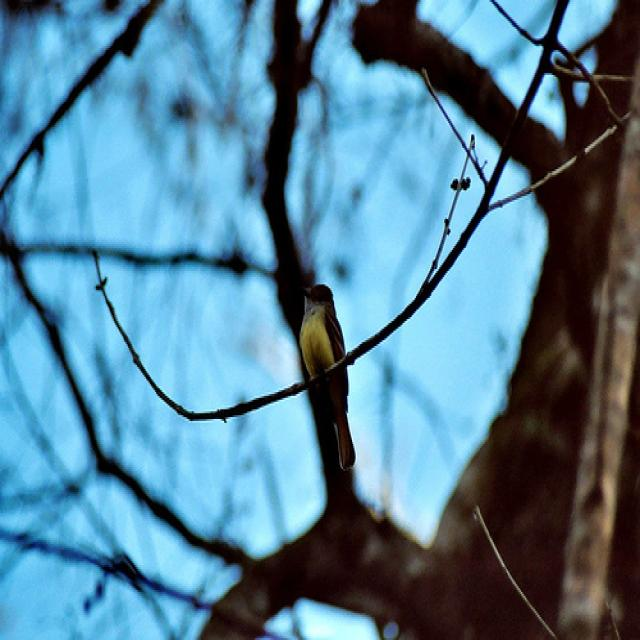bird: (298, 281, 357, 472)
